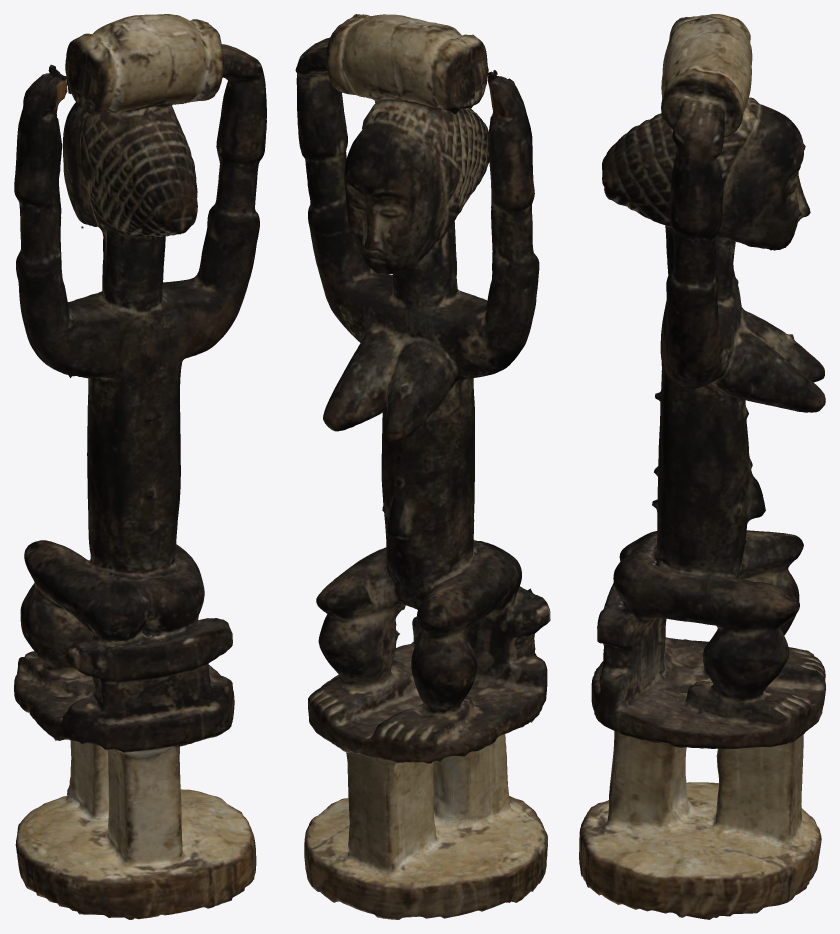
File: preview.glb
3 renders of one model, left to right at view 1: azimuth 30°, elevation 25°; view 2: azimuth 150°, elevation 25°; view 3: azimuth 270°, elevation 25°, orthographic.
Visible parts, largest first — view 1: Object_2; view 2: Object_2; view 3: Object_2.
Part boxes in pixels (box(x1,y1,x2,y2)): Object_2: box(14, 14, 266, 919); Object_2: box(295, 14, 550, 919); Object_2: box(579, 14, 825, 919).
Size of the model in its own units: 169 by 575 by 152.
Materials: 1 (1 with a texture image).
